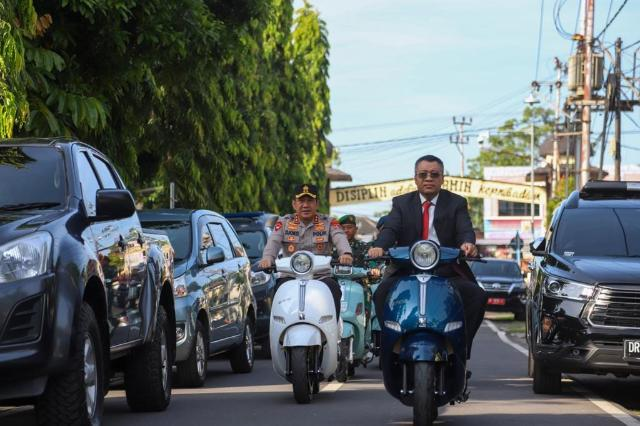motor: (367, 244, 488, 426), (247, 251, 359, 407)
non-helm: (416, 157, 447, 196), (293, 185, 321, 220), (340, 215, 360, 242)
